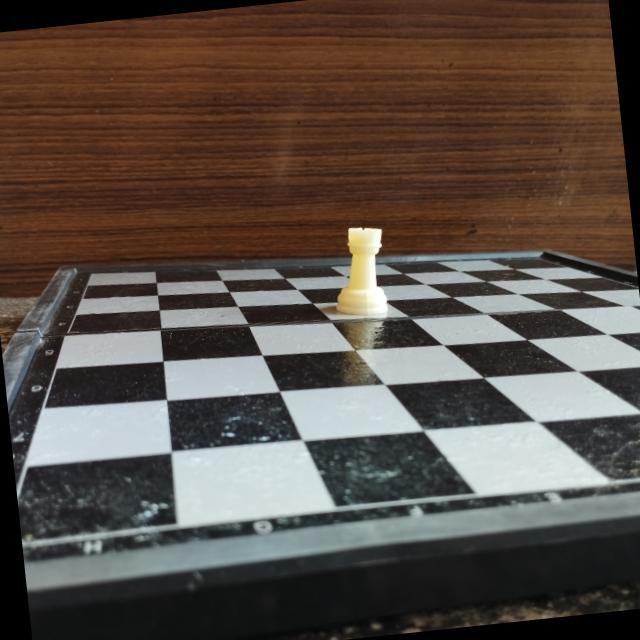White Rook: (323, 216, 399, 326)
